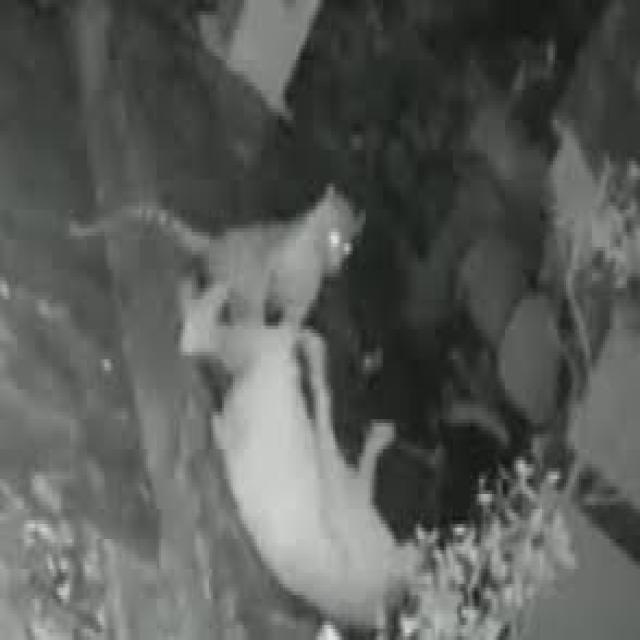Jaguar: (183, 191, 361, 325)
